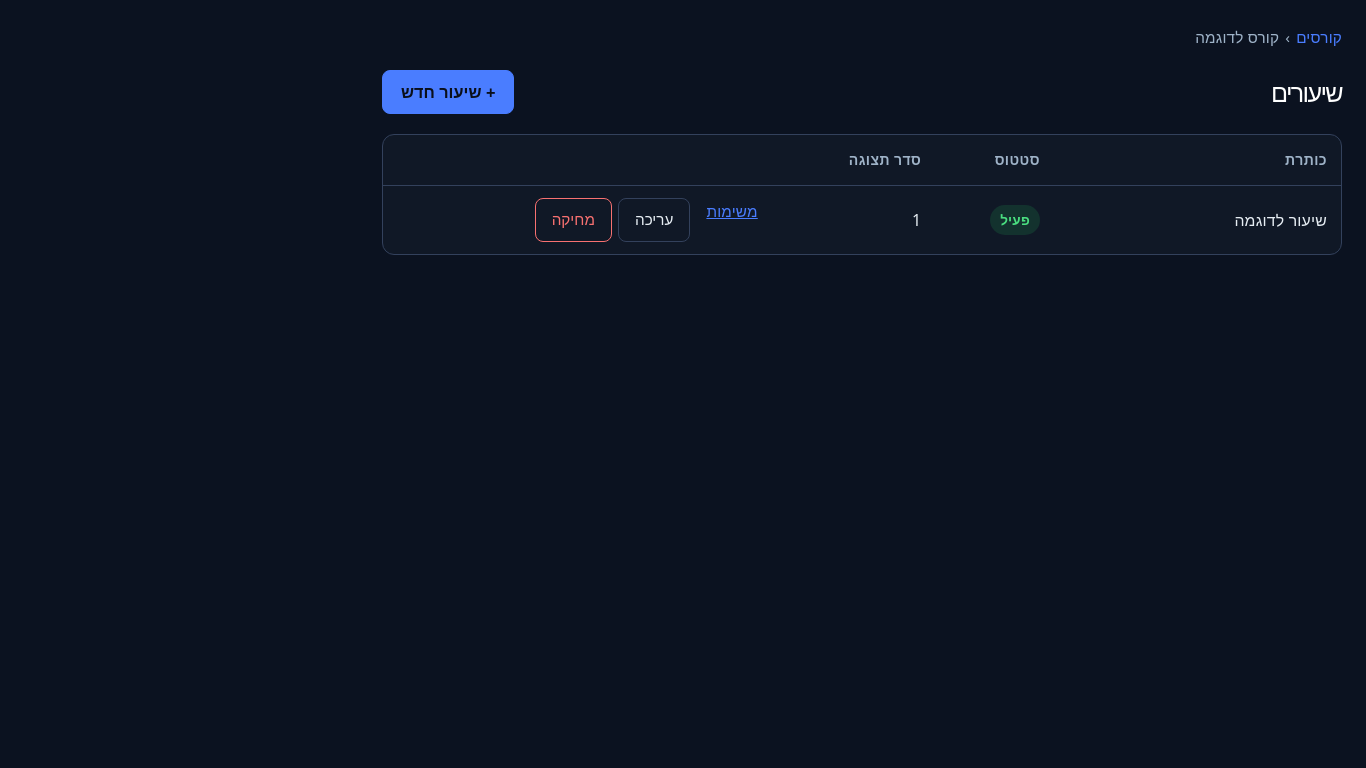
Test: AdminLessons › warns before discarding unsaved changes
Click the button "+ שיעור חדש" at (448, 92), box [382, 70, 514, 114]
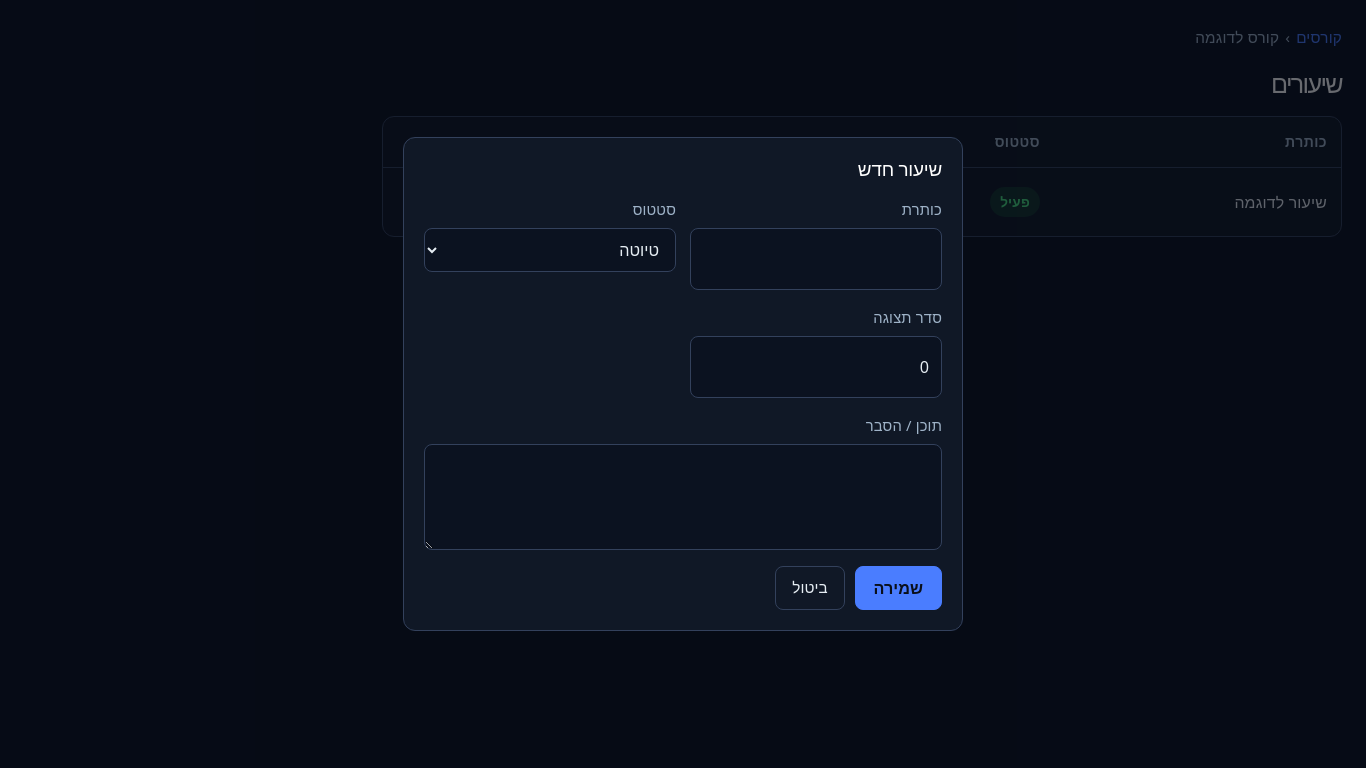
Type "טיוטה" into the field labelled "כותרת" at (816, 259), box [690, 228, 942, 290]
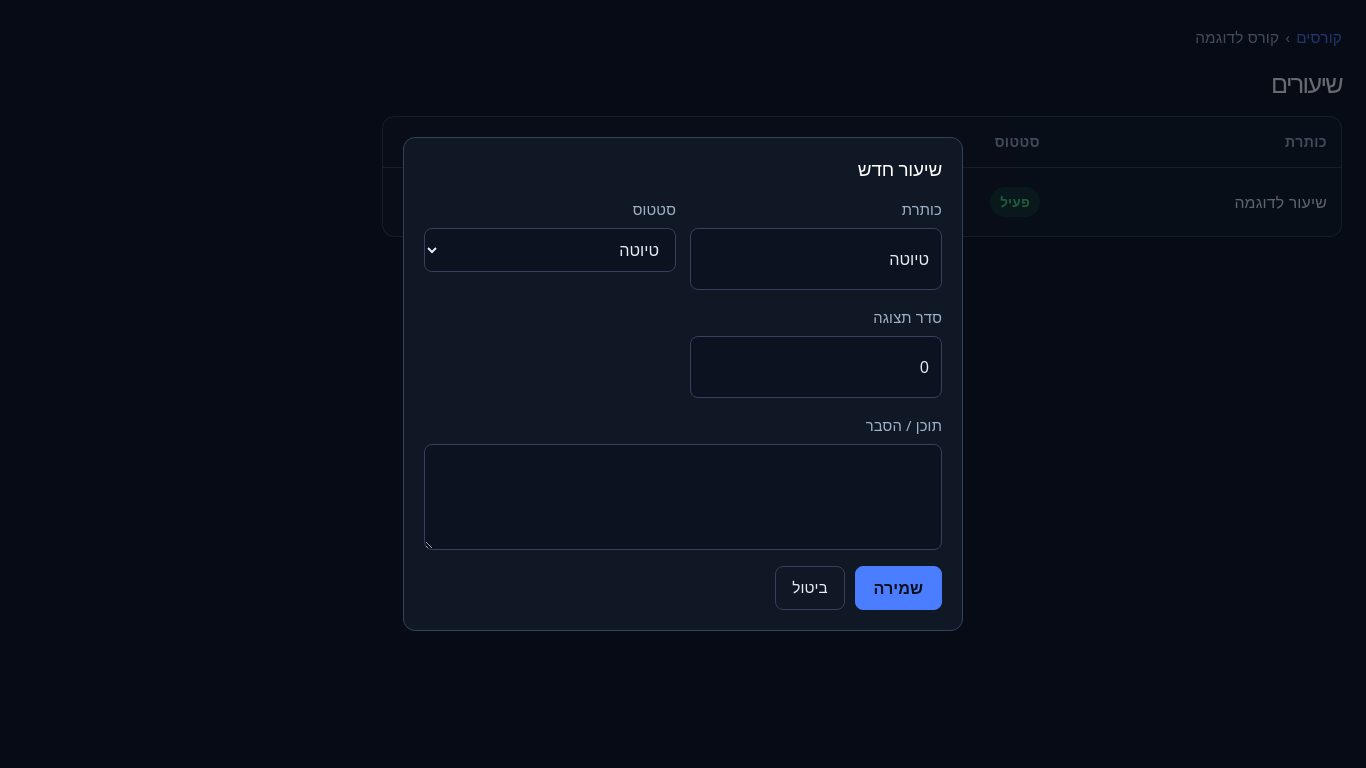
Click the button "ביטול" at (810, 588), box [775, 566, 844, 610]
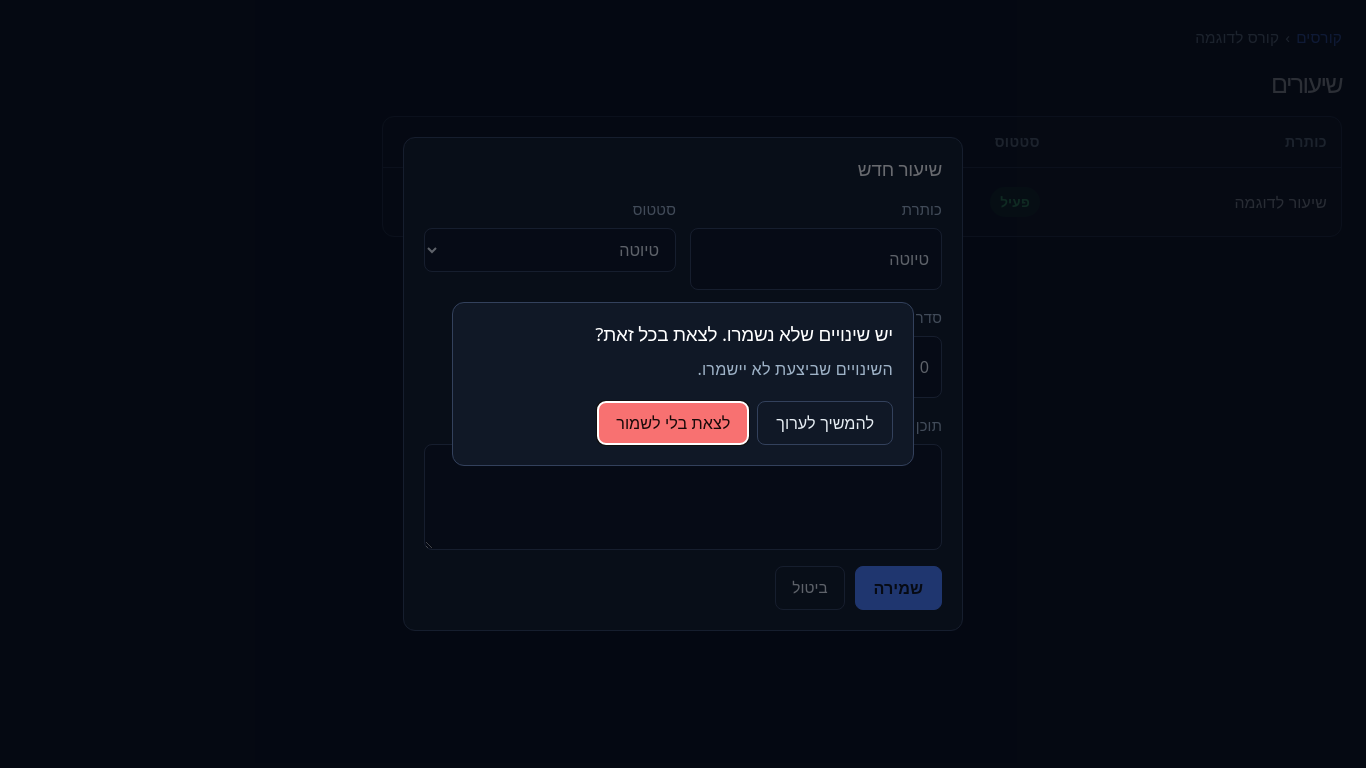
Result: the heading "יש שינויים שלא נשמרו. לצאת בכל זאת?" is shown at [595, 321, 893, 347]
